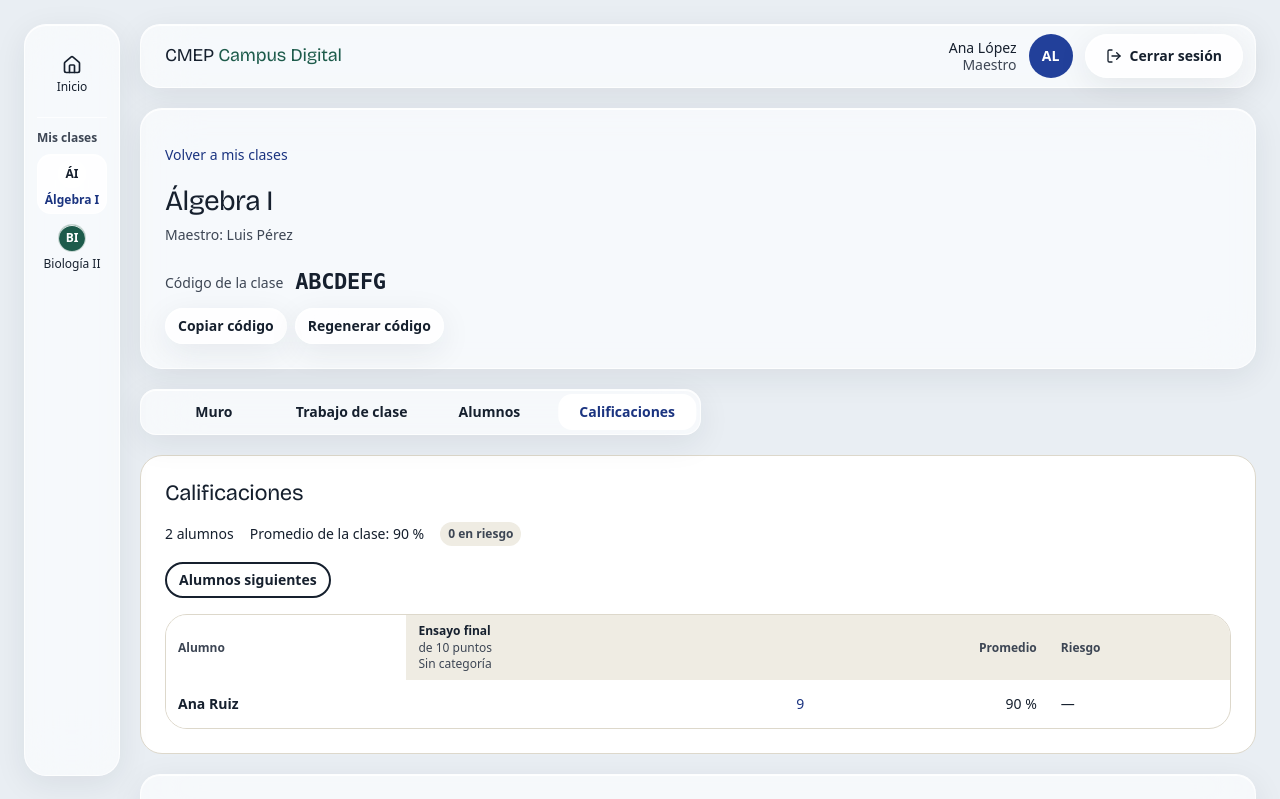
Test: T-08: «Vuelve a abrir Calificaciones» pulsando la sección «Calificaciones» (la activa) › CAL-T-228: gradebook con el texto del cursor (vacia): pulsar la sección «Calificaciones» vuelve a pedir la primera ventana y muestra la clase como está
The width and height of the screenshot is (1280, 799).
expect the text "2 alumnos" is shown: met, box [165,524,234,544]
Click the button "Alumnos siguientes".
click(248, 580)  # box [165,562,331,598]
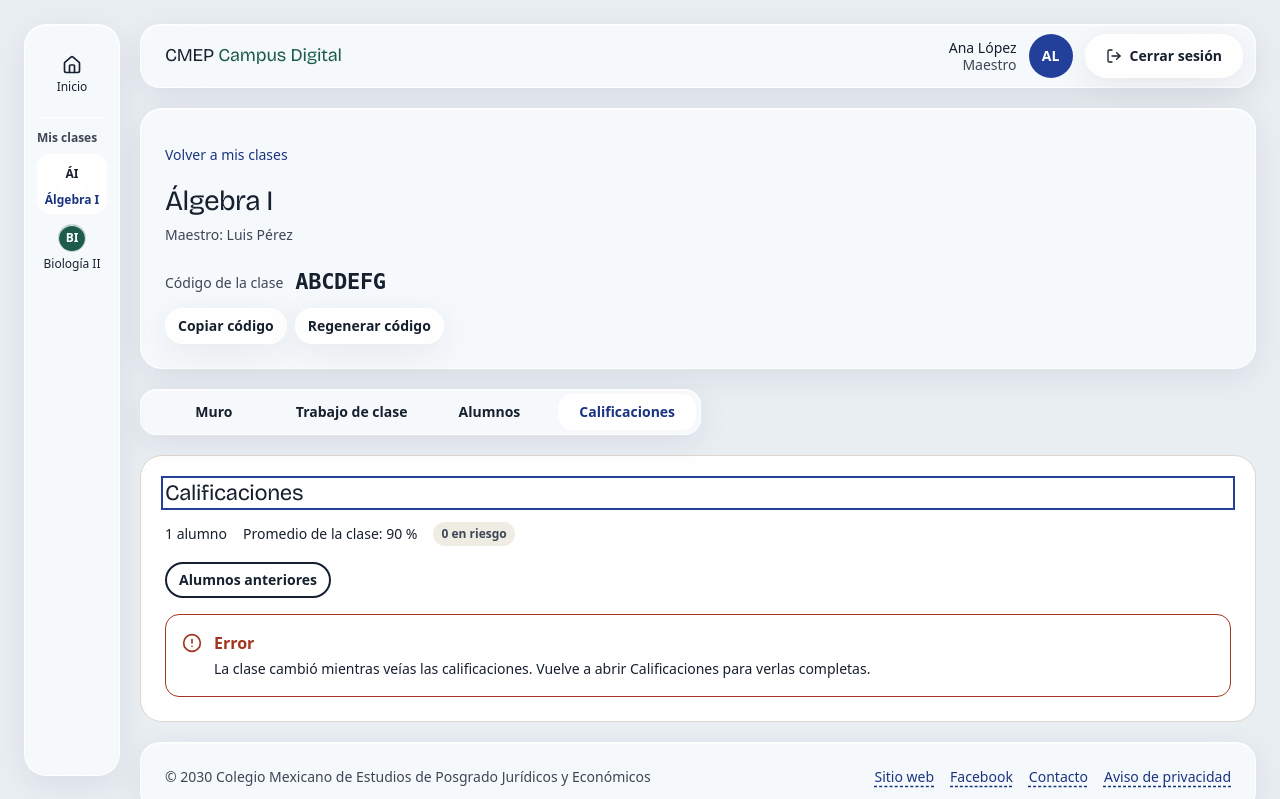
expect the text "La clase cambió mientras veías las calificaciones. Vuelve a abrir Calificaciones para verlas completas." is shown: met, box [214,660,870,678]
Click the link "Calificaciones".
click(627, 411)  # box [579,402,675,421]
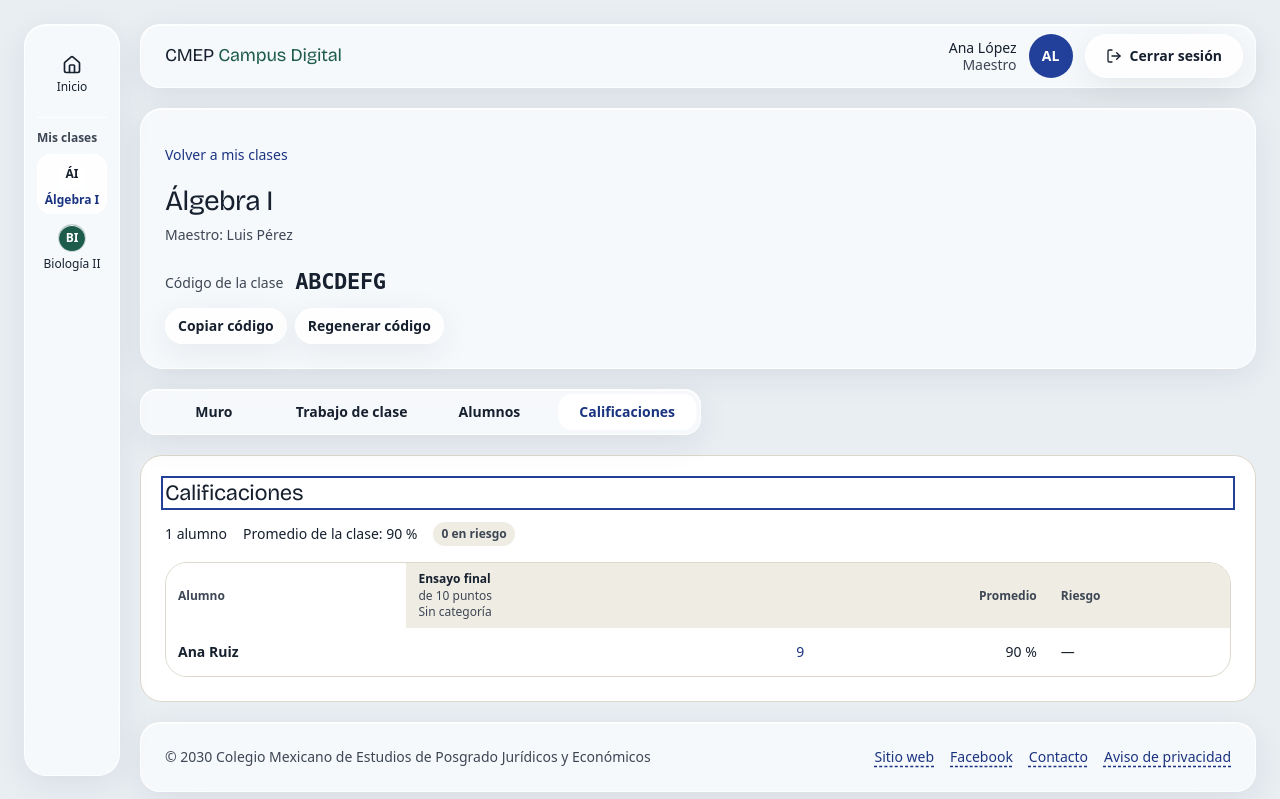
expect the button "Alumnos siguientes" is not shown: met
expect the text "1 alumno" is shown: met, box [165,524,227,544]
expect the text "La clase cambió mientras veías las calificaciones. Vuelve a abrir Calificaciones para verlas completas." is gone: met
